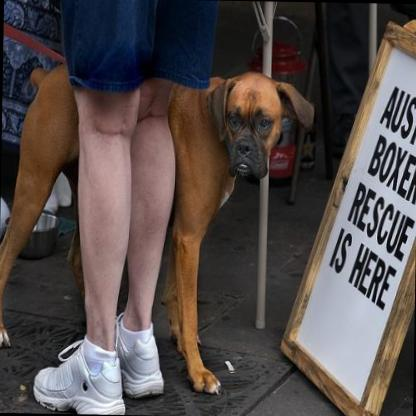boxer: (0, 63, 317, 399)
